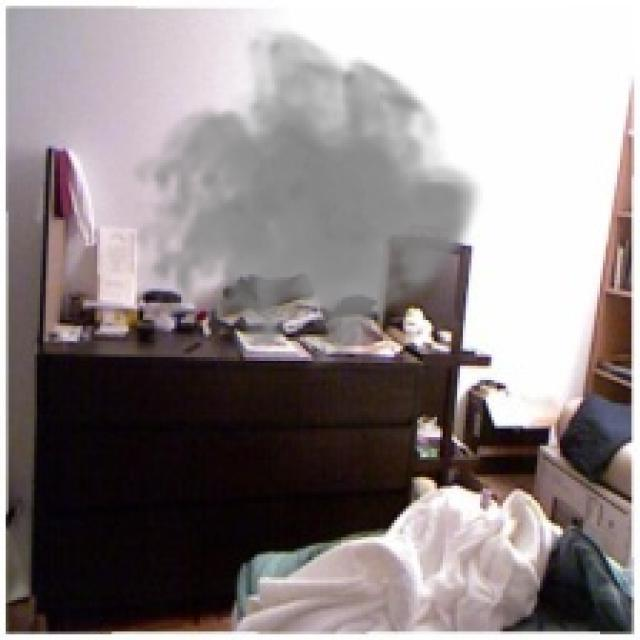Smoke: (128, 23, 483, 383)
